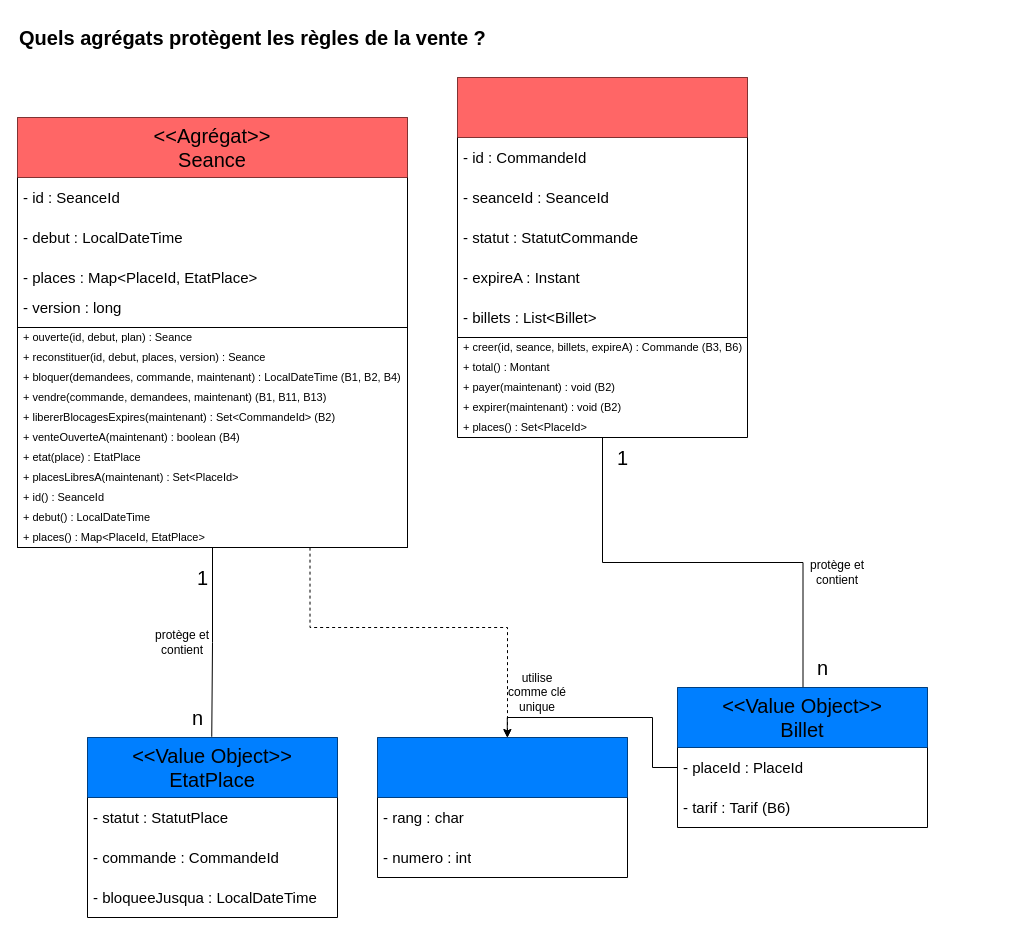
This 1035x935 diagram has some shape labels left out. The box of each missing label's shape, as (x1, y1, x2, y2) in pixels:
<<Agrégat>> Commande: (457, 77, 747, 137)
<<Value Object>> PlaceId: (377, 737, 627, 797)
